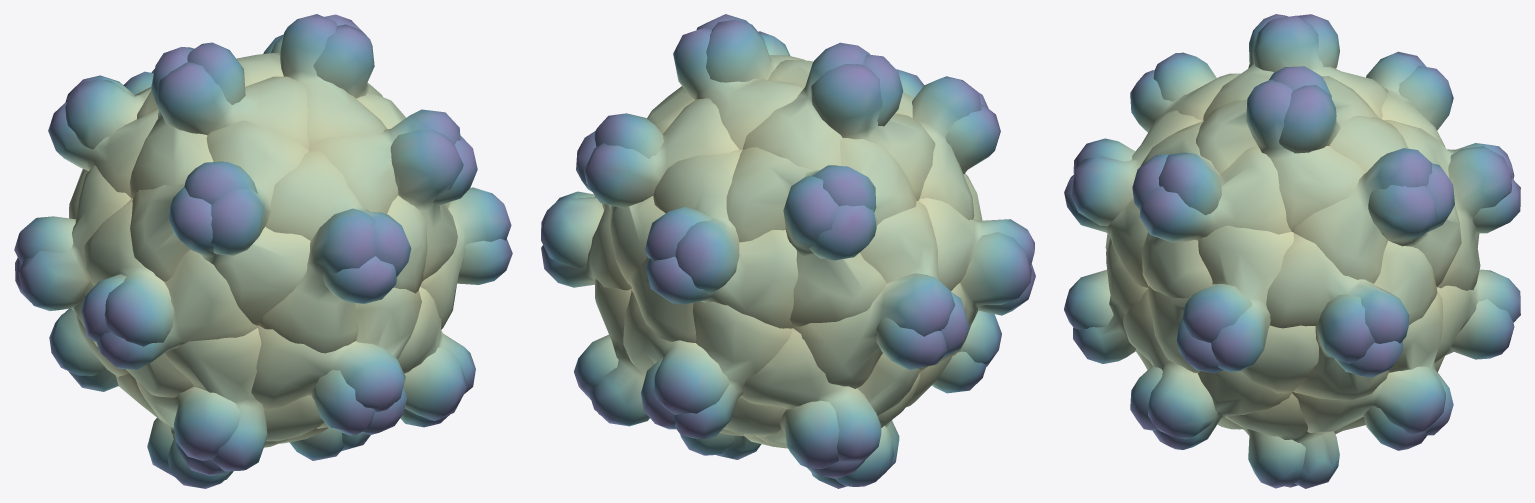
Rendered from Spiroplasma_50_cleaned_draco.glb.
The picture shows the model from 3 angles, left to right: view 1: azimuth 30°, elevation 25°; view 2: azimuth 150°, elevation 25°; view 3: azimuth 270°, elevation 25°; orthographic projection. The views are drawn at different scales.
Visible parts, largest first — view 1: Spiroplasma virus.cif assembly 1_A SES surface; view 2: Spiroplasma virus.cif assembly 1_A SES surface; view 3: Spiroplasma virus.cif assembly 1_A SES surface.
Part boxes in pixels (x1,y1,x2,y2): Spiroplasma virus.cif assembly 1_A SES surface: (14,14,512,488); Spiroplasma virus.cif assembly 1_A SES surface: (541,14,1035,488); Spiroplasma virus.cif assembly 1_A SES surface: (1064,14,1520,488).
Size of the model in its own units: 371 by 371 by 371.
